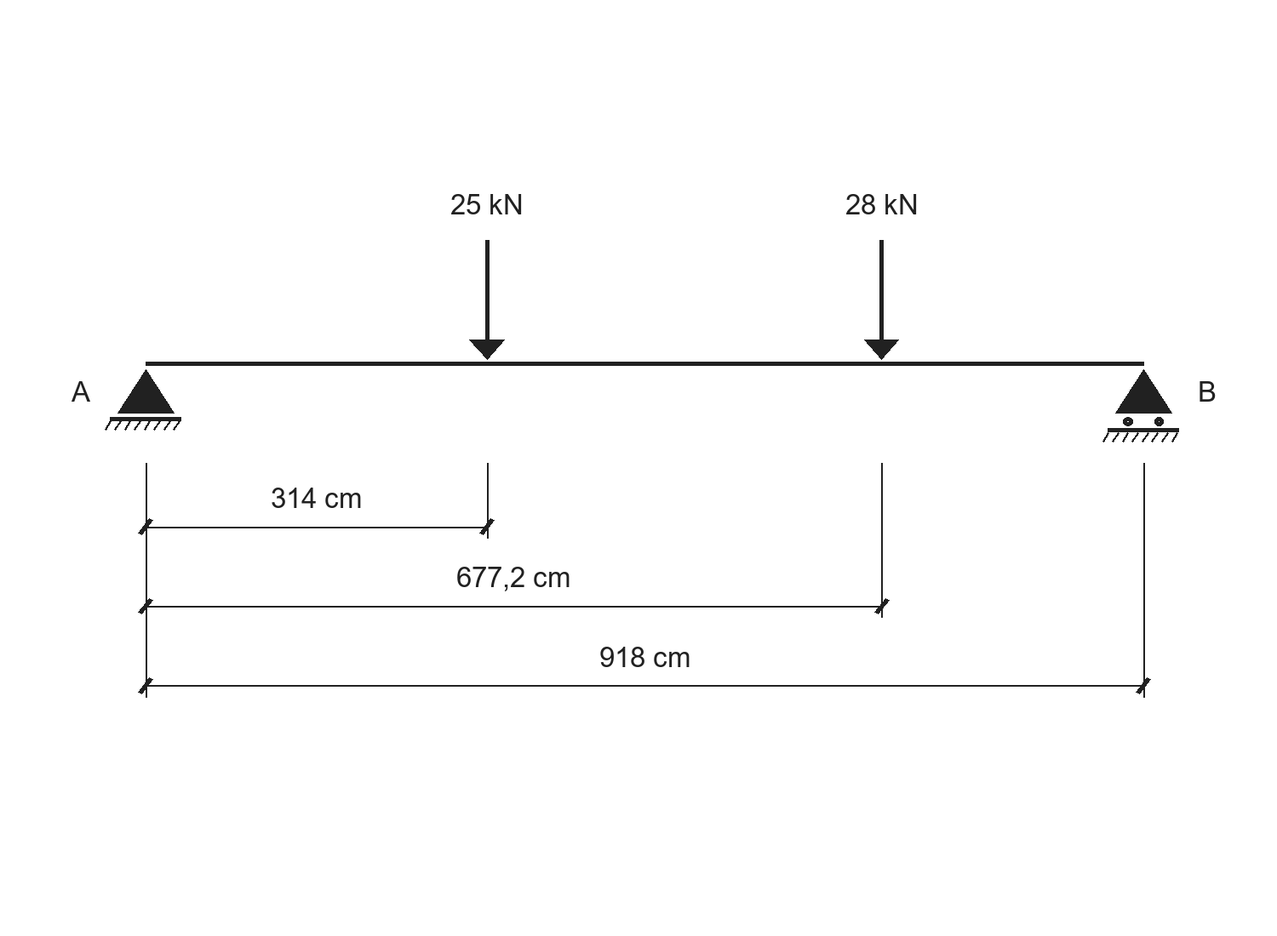pin_support: (105, 369, 181, 431)
point_load: (469, 240, 505, 360), (864, 240, 899, 360)
roller_support: (1102, 369, 1179, 442)
